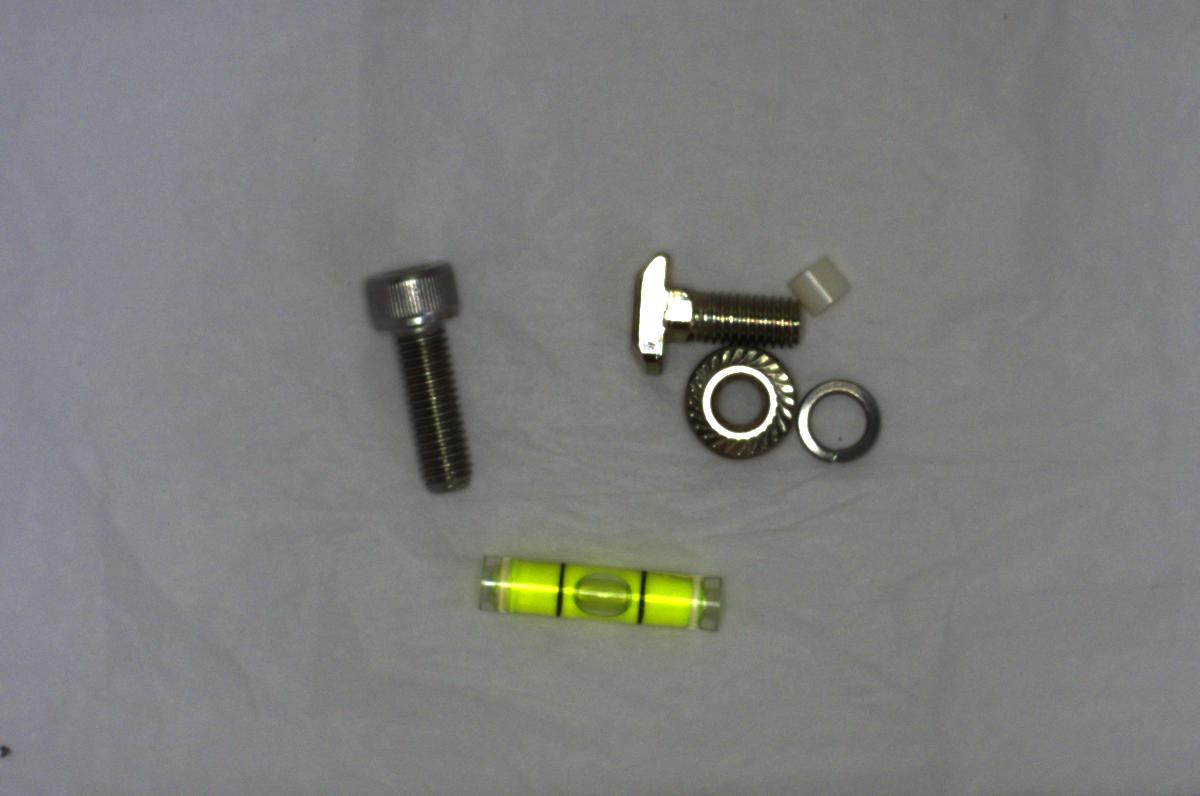Flange nut: (670, 348, 801, 462)
Hexagon screw: (355, 250, 480, 500)
Horizontal bubble: (461, 541, 739, 649)
Plastic cushion pillar: (782, 246, 857, 318)
Spring washer: (787, 373, 889, 472)
T-shaped screw: (611, 248, 805, 371)
